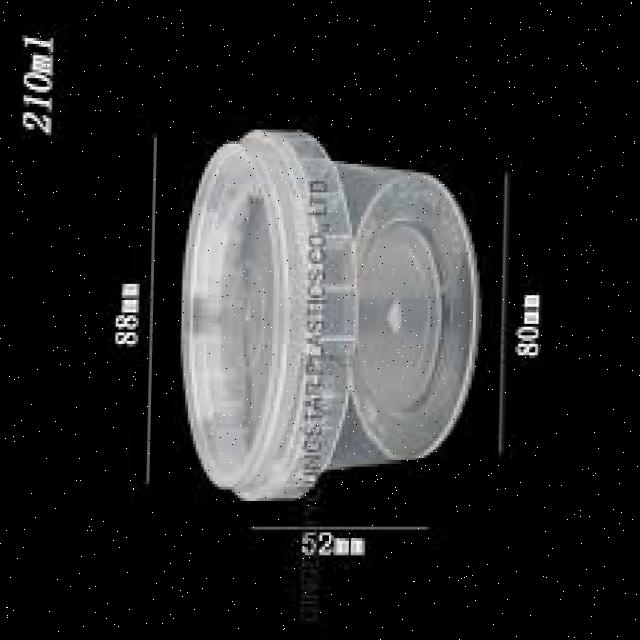disposable: (173, 121, 488, 524)
